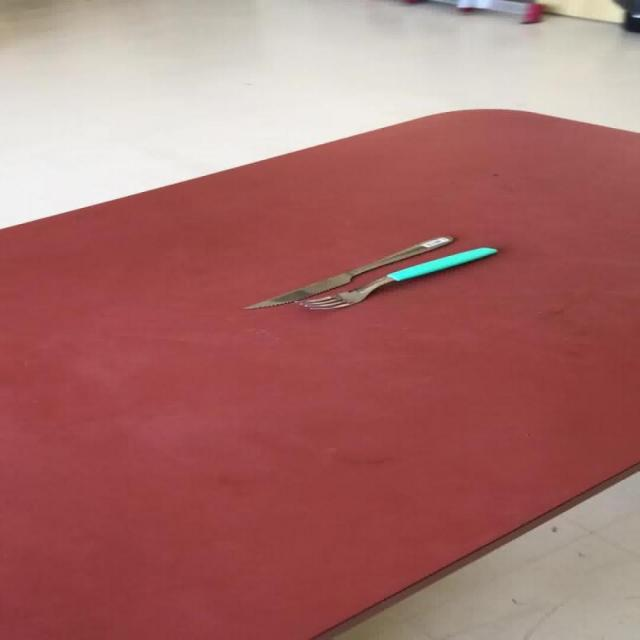Fork: (297, 246, 498, 310)
Knife: (242, 234, 454, 309)
